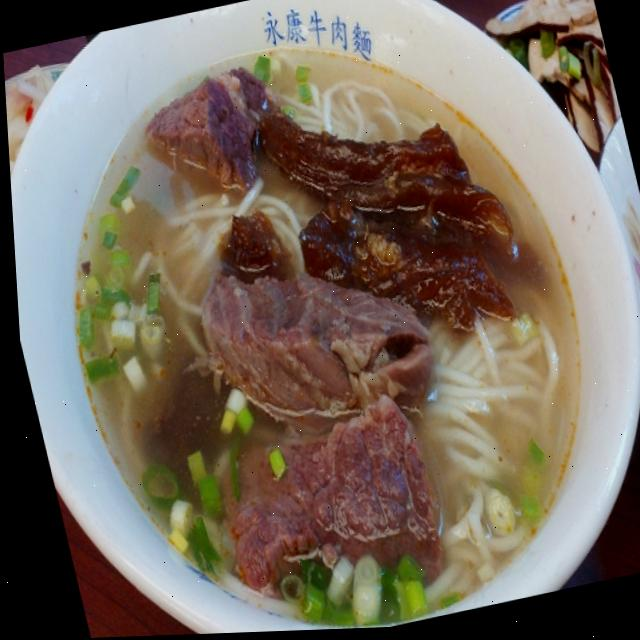面条主食: (5, 0, 632, 640)
